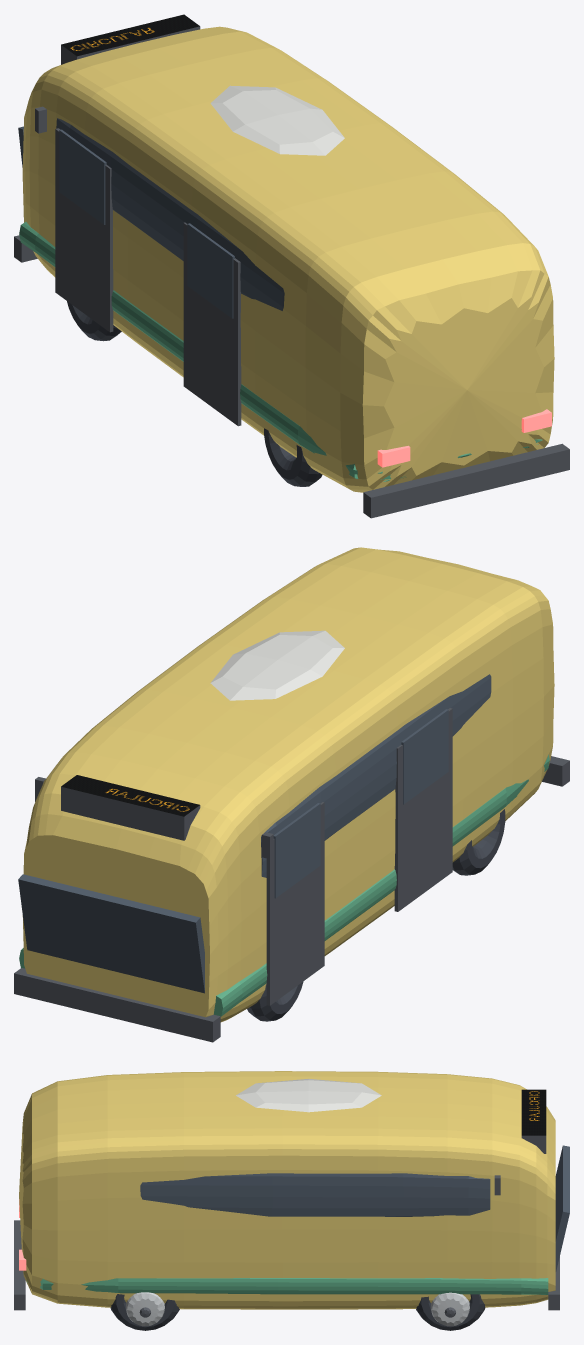
File: bus_traffic.glb
The picture shows the model from 3 angles, top to bottom: view 1: azimuth 30°, elevation 25°; view 2: azimuth 150°, elevation 25°; view 3: azimuth 270°, elevation 25°; orthographic projection. The views are drawn at different scales.
Parts seen in each view (by area): view 1: BusTrafego, BusWheelRL, BusWheelFL; view 2: BusTrafego, BusWheelRL, BusWheelFL; view 3: BusTrafego, BusWheelFR, BusWheelRR.
Boxes of the visible parts, x1=… form: BusTrafego: x1=14, y1=14, x2=569, y2=518; BusWheelRL: x1=264, y1=428, x2=322, y2=486; BusWheelFL: x1=67, y1=301, x2=121, y2=341; BusTrafego: x1=14, y1=547, x2=569, y2=1042; BusWheelRL: x1=452, y1=809, x2=505, y2=875; BusWheelFL: x1=247, y1=981, x2=303, y2=1021; BusTrafego: x1=14, y1=1071, x2=569, y2=1310; BusWheelFR: x1=416, y1=1292, x2=485, y2=1330; BusWheelRR: x1=110, y1=1292, x2=179, y2=1330.
Bounding box in the file's own units: 2.86 × 3.13 × 7.66.
Materials: 10 (1 with a texture image).
